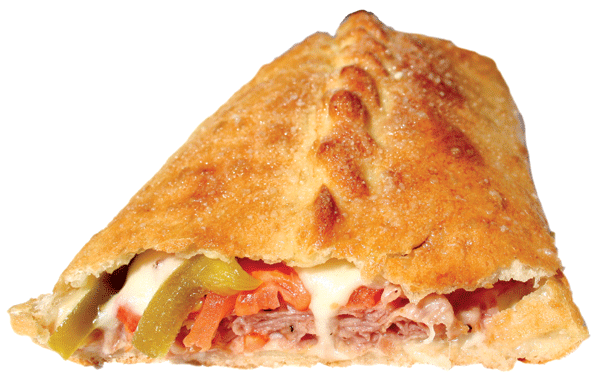soup: (22, 11, 589, 369)
